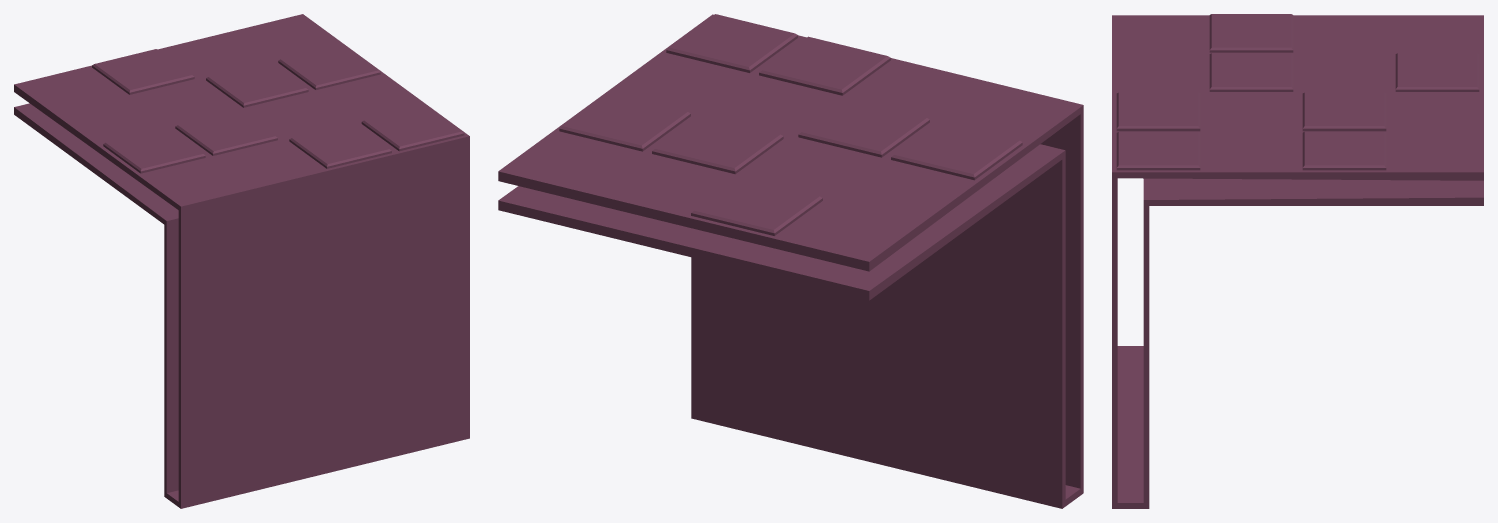
File: Dungeon_Floor_B.fbx
The picture shows the model from 3 angles, left to right: view 1: azimuth 30°, elevation 25°; view 2: azimuth 150°, elevation 25°; view 3: azimuth 270°, elevation 25°; orthographic projection. The views are drawn at different scales.
Parts seen in each view (by area): view 1: Ground.2; view 2: Ground.2; view 3: Ground.2.
Boxes of the visible parts, <box> form: Ground.2: <box>14,14,469,508</box>; Ground.2: <box>498,14,1083,508</box>; Ground.2: <box>1112,14,1483,508</box>.
Size of the model in its own units: 4 by 4.05 by 4.
